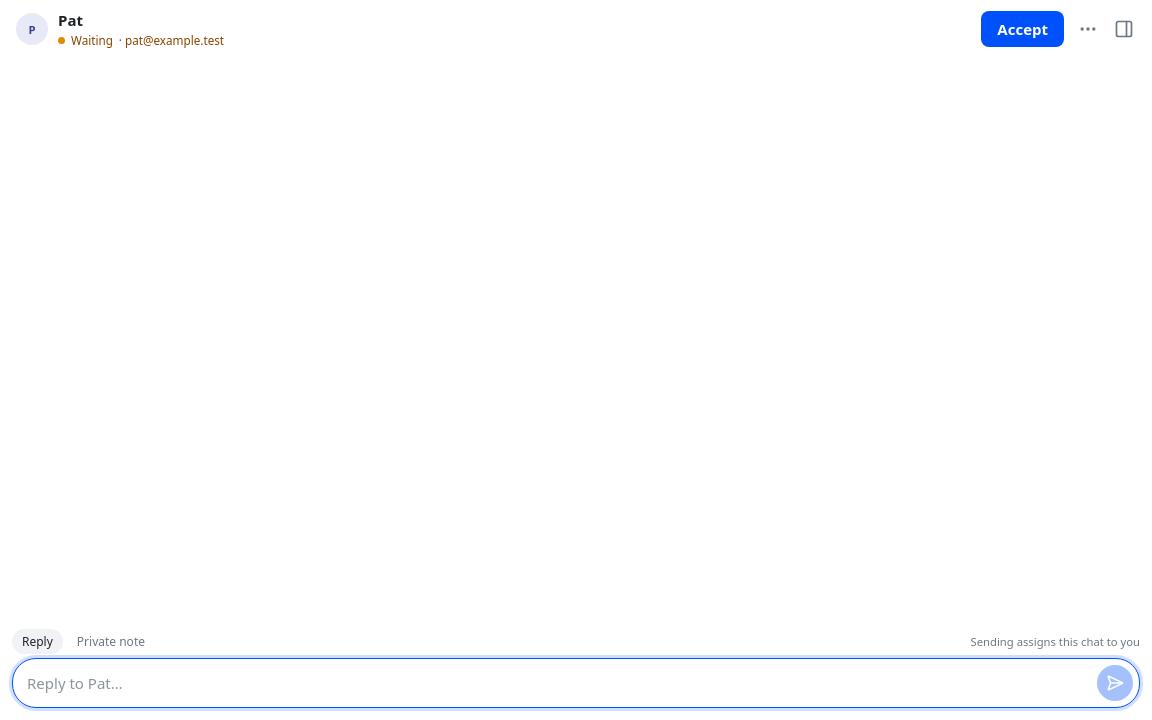
Test: ConversationView › explains when another agent accepted first
Click the button "Accept" at x=1023, y=29, box [981,11,1064,47]
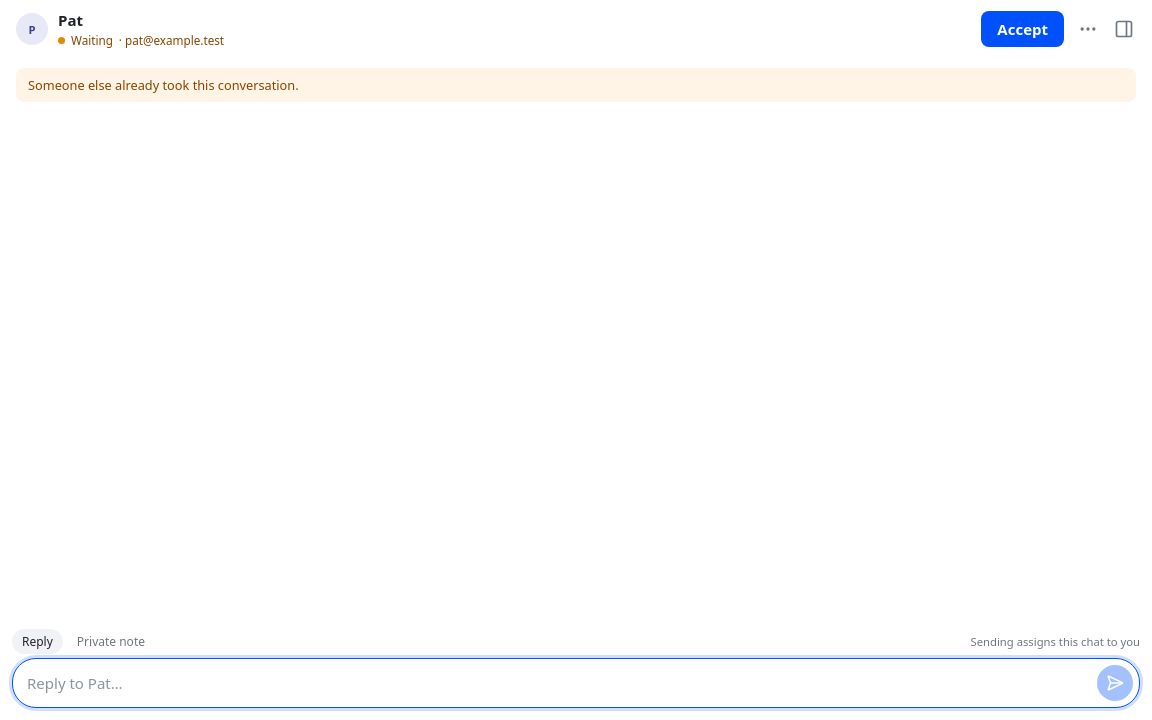
expect the text "Someone else already took this conversation." is shown: met, box [16,68,1136,102]
